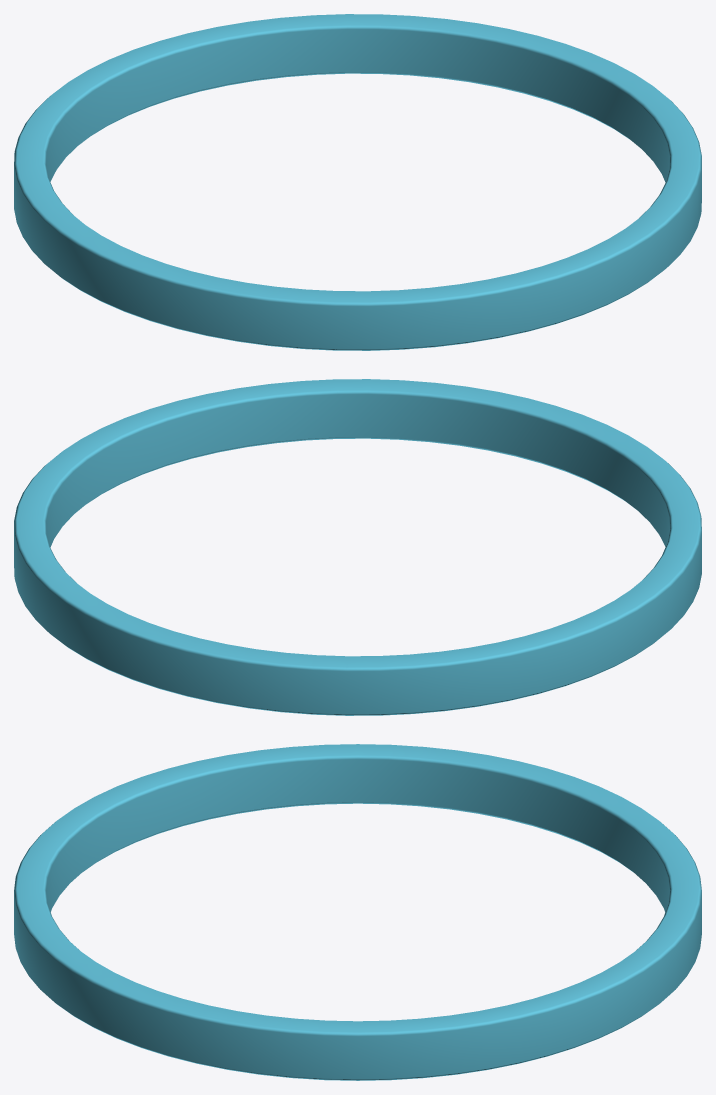
The picture shows the model from 3 angles, top to bottom: view 1: azimuth 30°, elevation 25°; view 2: azimuth 150°, elevation 25°; view 3: azimuth 270°, elevation 25°; orthographic projection.
Parts seen in each view (by area): view 1: seal_body; view 2: seal_body; view 3: seal_body.
Part boxes in pixels (x1,y1,x2,y2): seal_body: (14,14,701,350); seal_body: (14,379,701,715); seal_body: (14,744,701,1080).
Size of the model in its own units: 0.2032 by 0.0159 by 0.2032.
